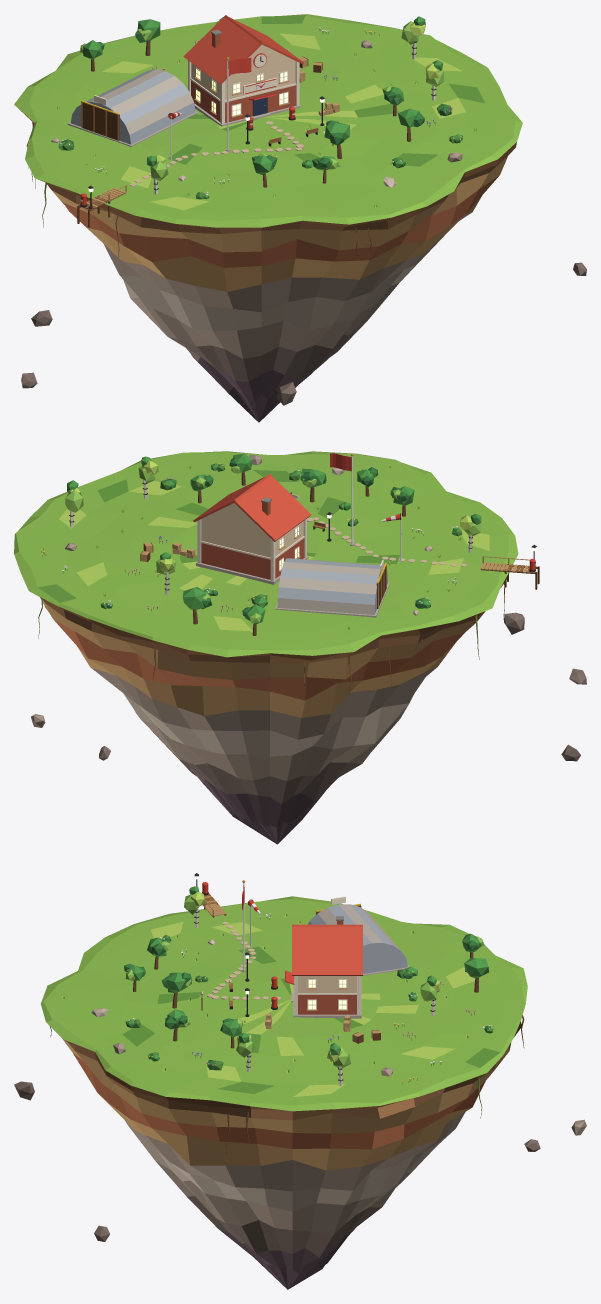
The model's file is island_post_office.glb.
The picture shows the model from 3 angles, top to bottom: view 1: azimuth 30°, elevation 25°; view 2: azimuth 150°, elevation 25°; view 3: azimuth 270°, elevation 25°; orthographic projection. The views are drawn at different scales.
Visible parts, largest first — view 1: Island-col, Dressing, Debris; view 2: Island-col, Dressing, Debris; view 3: Island-col, Dressing, Debris.
Boxes of the visible parts, x1,y1,x2,y2 form: Island-col: [14, 14, 522, 422]; Dressing: [51, 15, 476, 227]; Debris: [21, 262, 586, 405]; Island-col: [14, 451, 518, 844]; Dressing: [41, 453, 539, 635]; Debris: [31, 612, 586, 761]; Island-col: [41, 896, 527, 1289]; Dressing: [62, 873, 493, 1085]; Debris: [14, 1081, 586, 1241].
Size of what is drawn, in the model's own units: 81.27 by 60.81 by 82.17.
